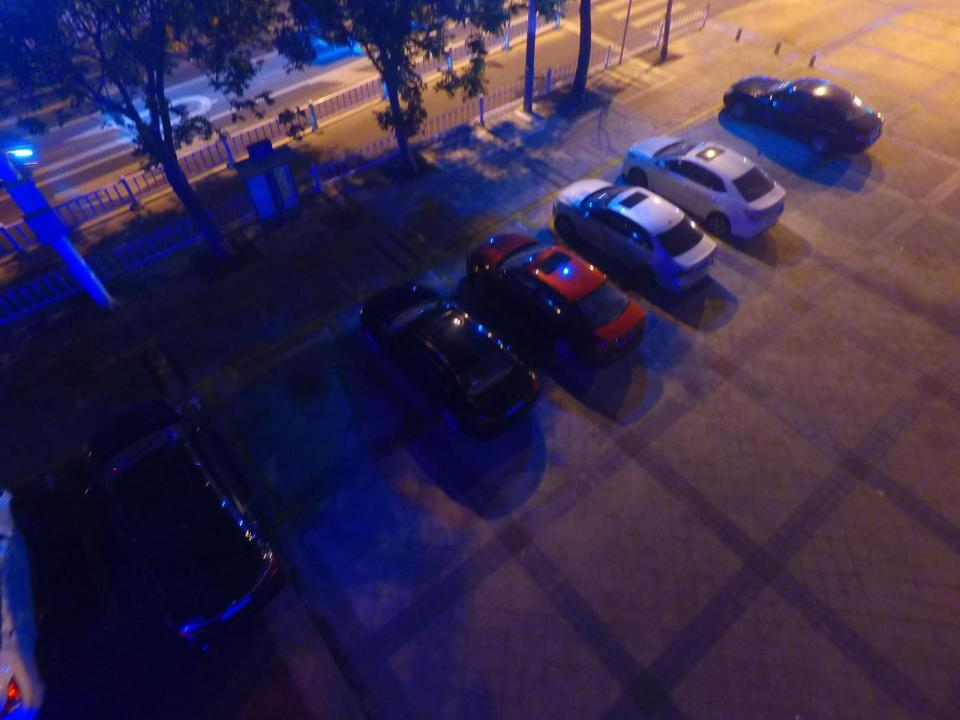car: (79, 414, 282, 652), (359, 283, 543, 440), (465, 232, 649, 360), (552, 176, 718, 290), (618, 132, 786, 243), (722, 74, 886, 156)
